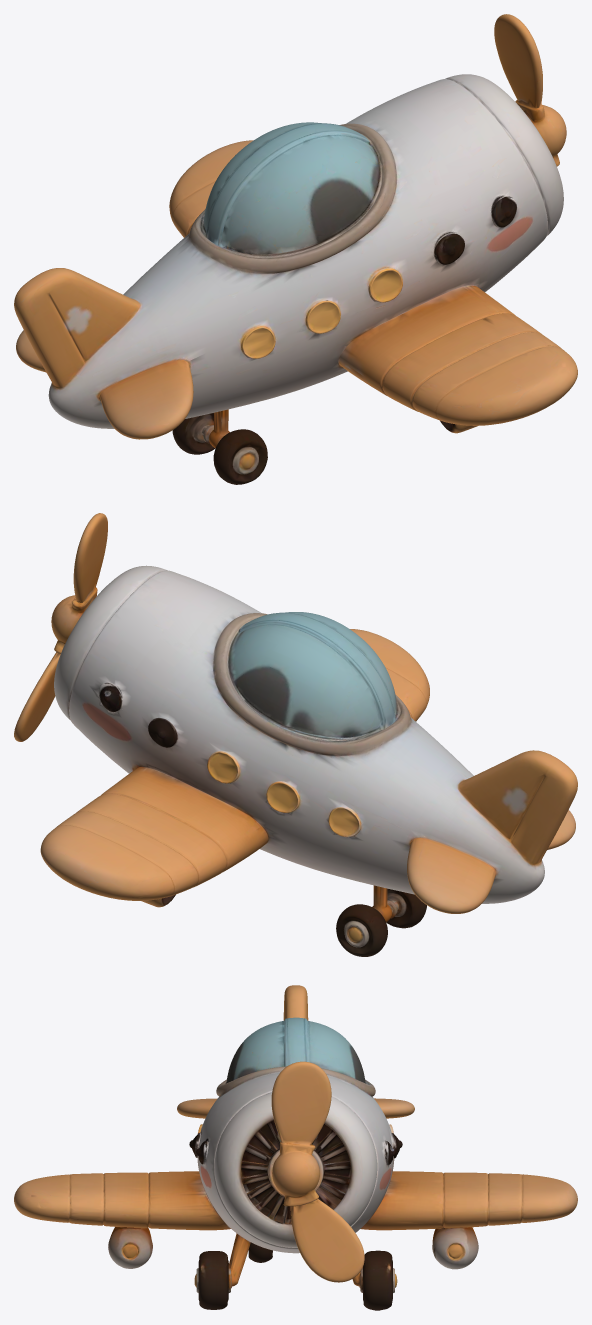
Rendered from cute_plane_4-transformed.glb.
3 renders of one model, top to bottom at view 1: azimuth 30°, elevation 25°; view 2: azimuth 150°, elevation 25°; view 3: azimuth 270°, elevation 25°, orthographic. The views are drawn at different scales.
Visible parts, largest first — view 1: node_0; view 2: node_0; view 3: node_0.
Part boxes in pixels (bbox=[...]): node_0: bbox=[14, 14, 577, 484]; node_0: bbox=[14, 513, 577, 956]; node_0: bbox=[14, 985, 577, 1310].
Size of the model in its own units: 1.1 by 0.7079 by 1.12.
Materials: 1 (1 with a texture image).
